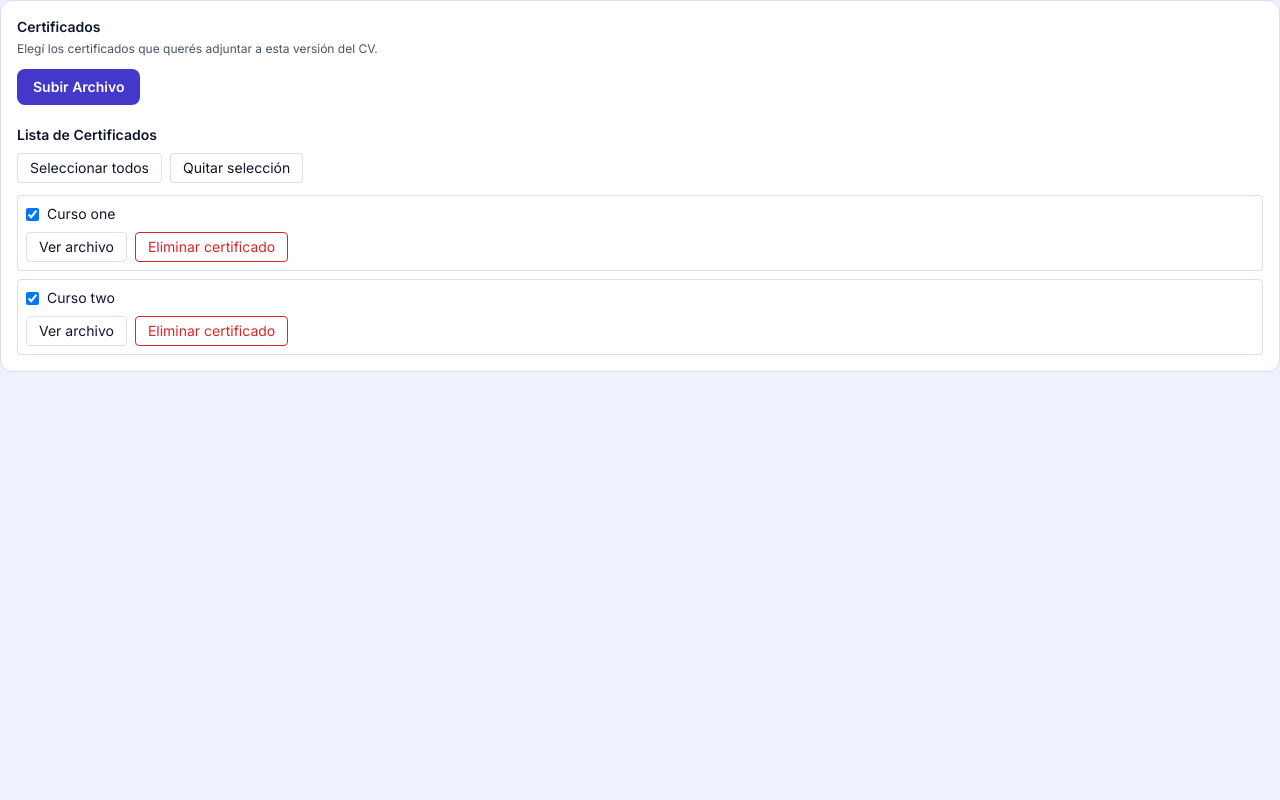
Selección de certificados › confirma la eliminación, quita el certificado de la lista y de la selección
Click the button with test id "certificate-delete-one". click: click(212, 247)
box: left=135, top=232, right=288, bottom=262
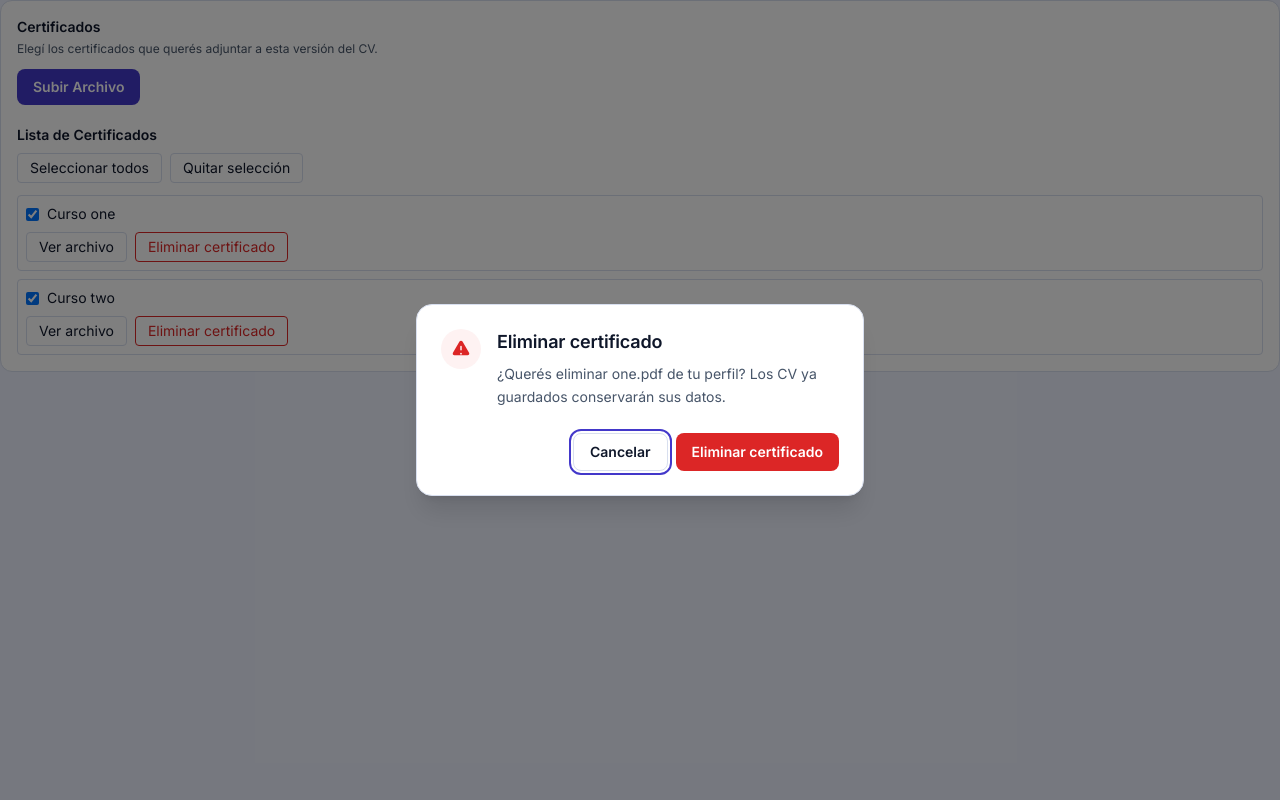
Check: the dialog with test id "confirm-dialog" shows "Los CV ya guardados conservarán sus datos", box left=497, top=365, right=817, bottom=405
Click the button with test id "confirm-dialog-cancel". click: click(620, 452)
box: left=573, top=433, right=668, bottom=471
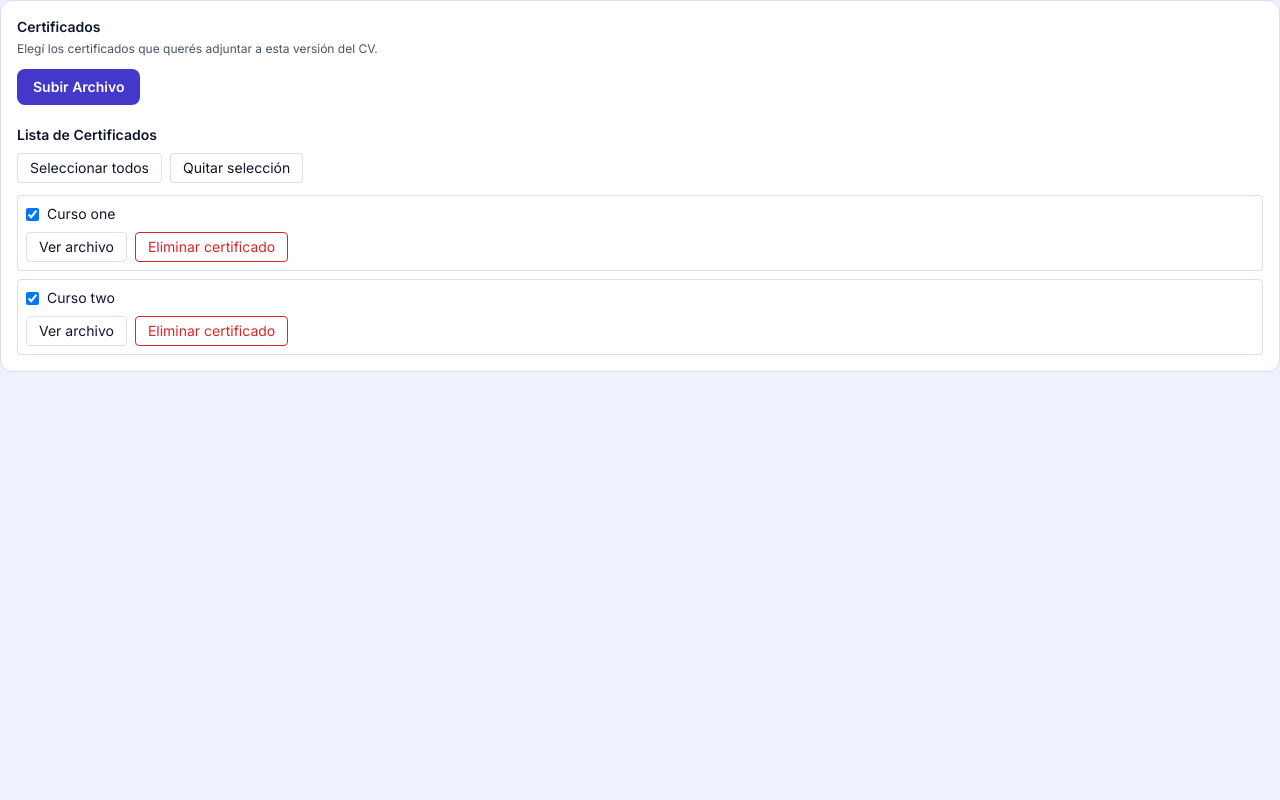
Click the button with test id "certificate-delete-one". click: click(212, 247)
box: left=135, top=232, right=288, bottom=262
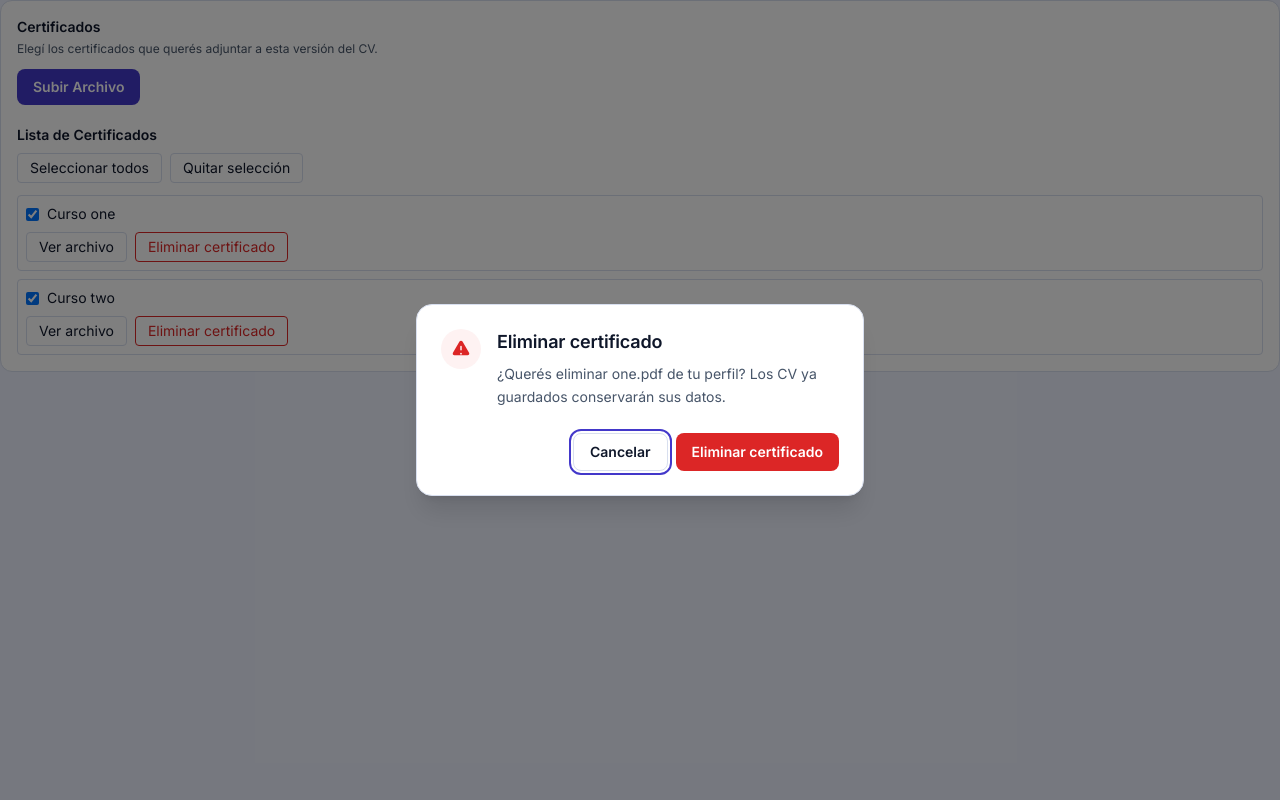
Click the button with test id "confirm-dialog-confirm". click: click(757, 452)
box: left=676, top=433, right=839, bottom=471
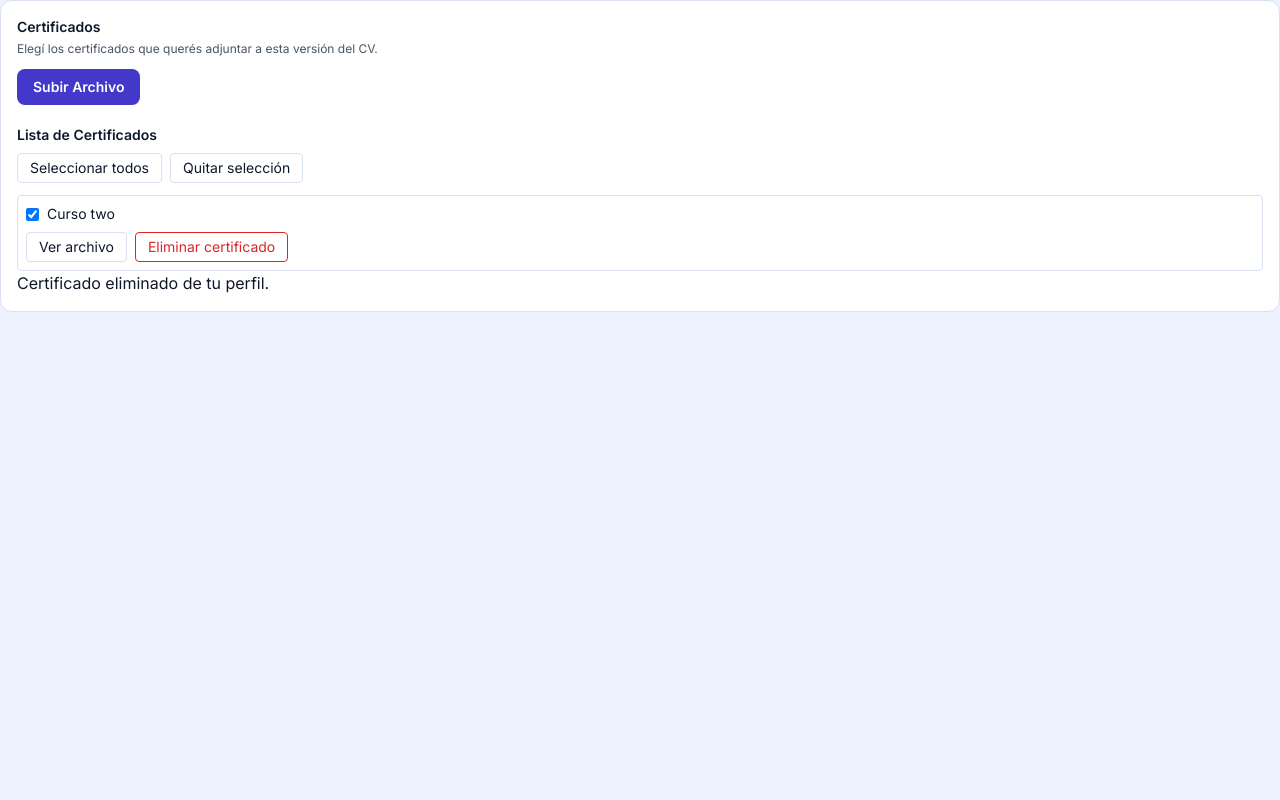
Check: the button with test id "certificate-view-two" is shown, box left=26, top=232, right=127, bottom=262
Check: the checkbox with test id "certificate-checkbox-one" is gone
